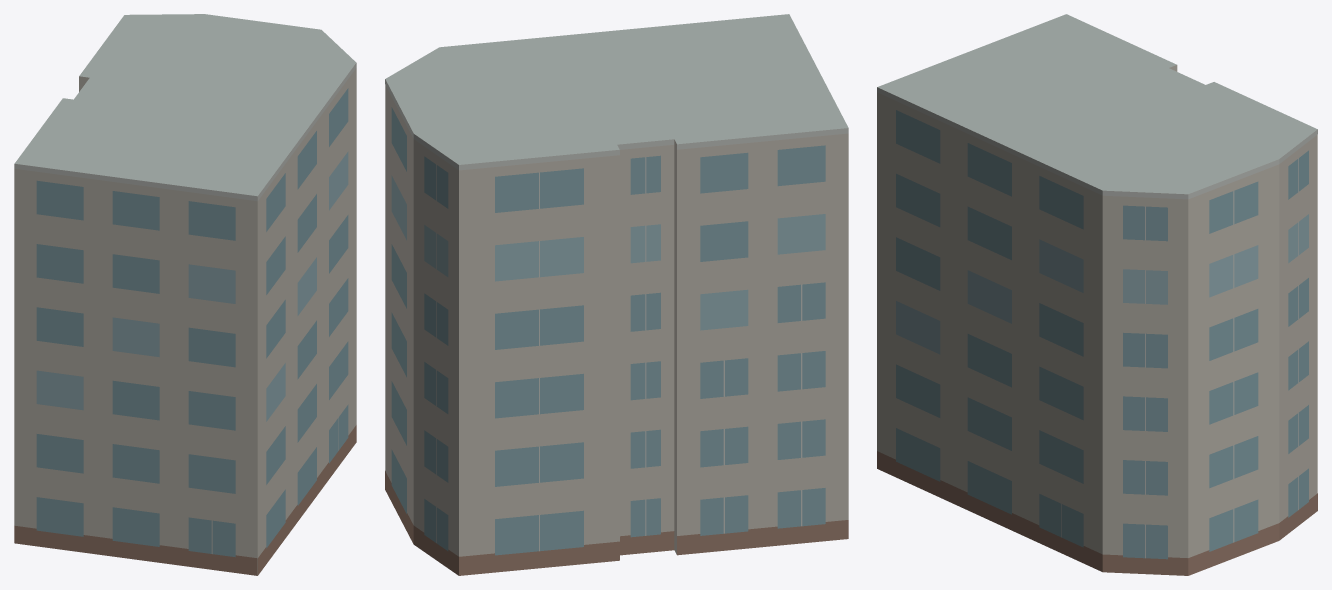
Rendered from survey-upis-32664925.glb.
3 views of the same model, side by side, from view 1: azimuth 30°, elevation 25°; view 2: azimuth 150°, elevation 25°; view 3: azimuth 270°, elevation 25° (orthographic). The views are drawn at different scales.
Visible parts, largest first — view 1: survey-upis-32664925.tmp; view 2: survey-upis-32664925.tmp; view 3: survey-upis-32664925.tmp.
Boxes of the visible parts, x1,y1,x2,y2 form: survey-upis-32664925.tmp: [14, 14, 356, 575]; survey-upis-32664925.tmp: [385, 14, 848, 575]; survey-upis-32664925.tmp: [877, 14, 1317, 575].
Bounding box in the file's own units: 18.55 × 18.3 × 19.16.
